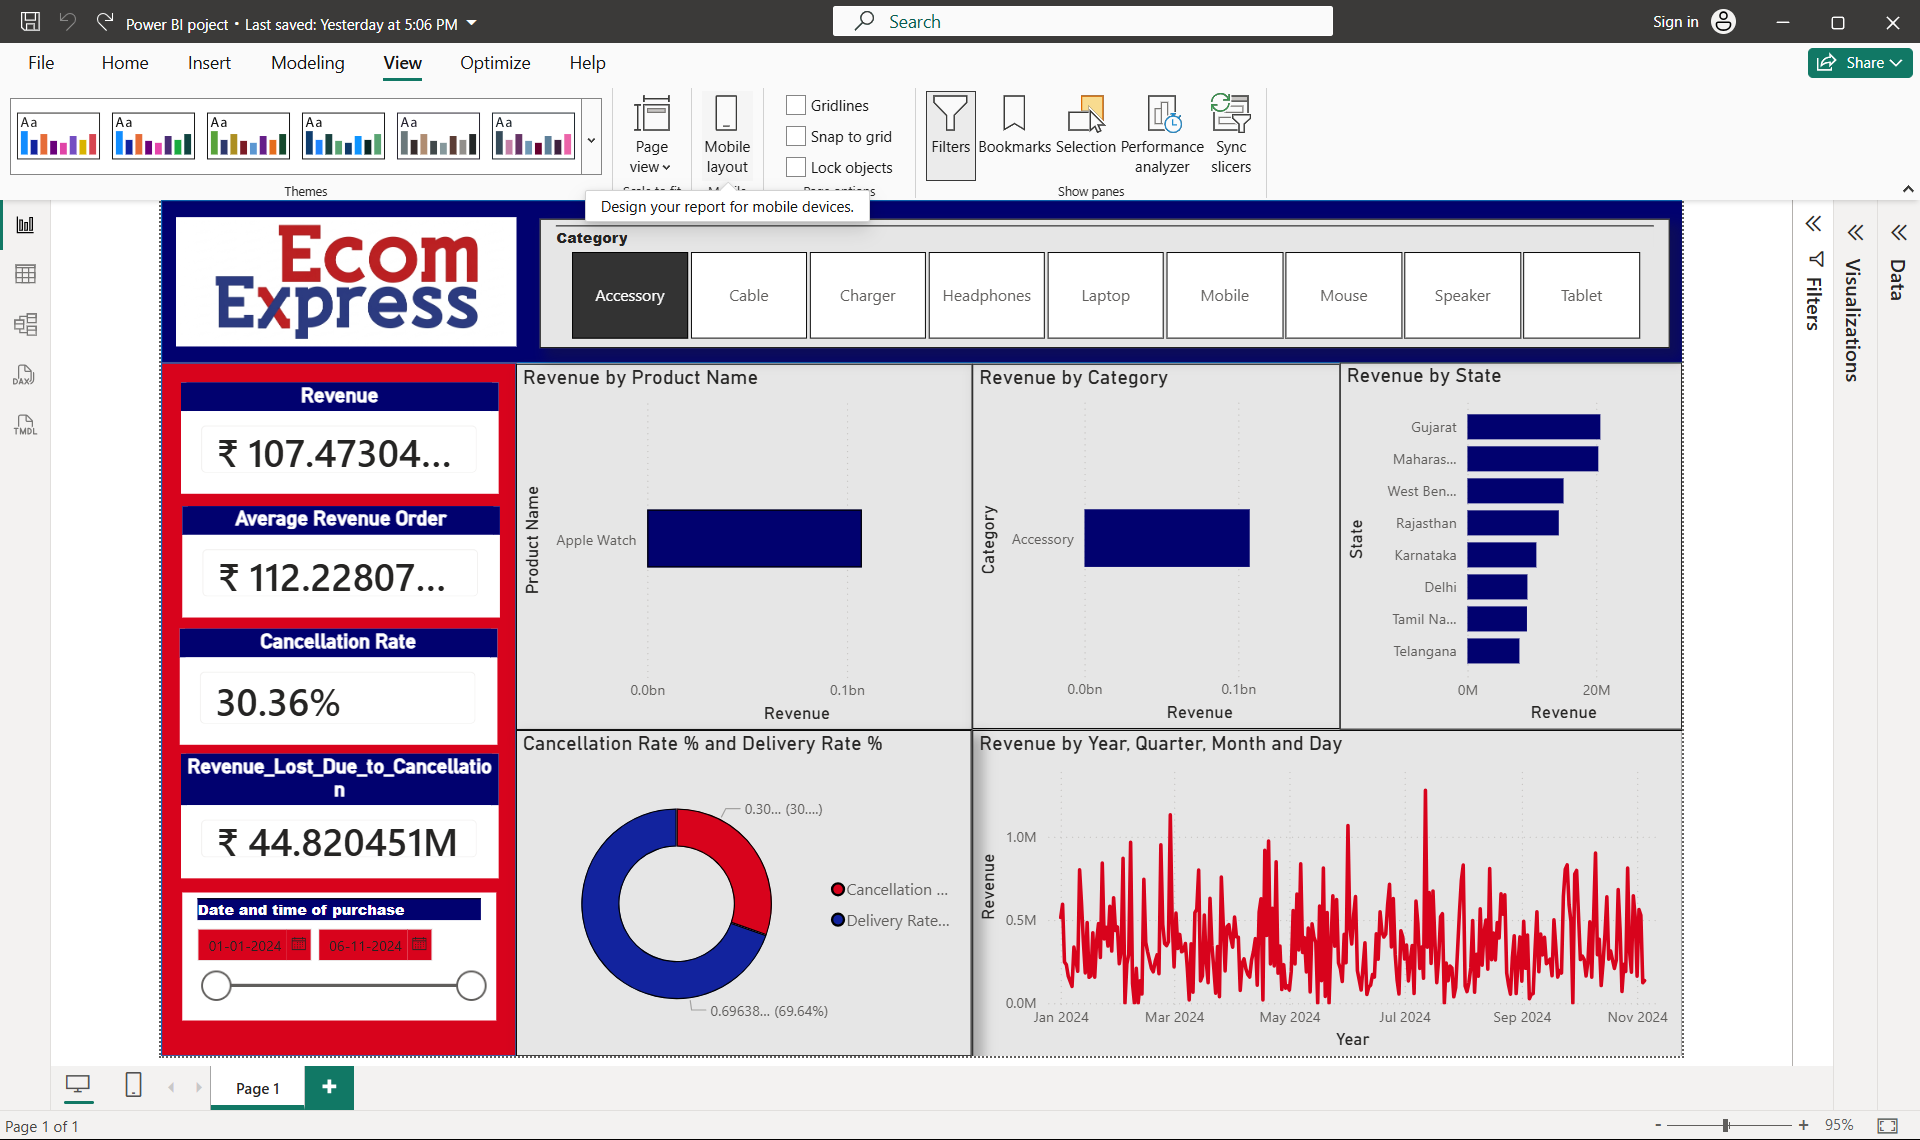

What the dashboard file says about the page in this screenshot:
{"tool":"powerbi","page":{"name":"Page 1","canvas":[1280,720],"ordinal":0},"visuals":[{"type":"shape","box":[0,0,1280.3,137.2],"z":0},{"type":"shape","box":[0,136.9,299,583.6],"z":1000},{"type":"image","box":[12.3,0,286.8,137.2],"z":2000},{"type":"barChart","fields":{"Y":["table.Revenue"],"Category":["Products.Product Name"]},"box":[298.6,137.7,383.8,308.1],"z":3000},{"type":"barChart","fields":{"Category":["Products.Category"],"Y":["table.Revenue"]},"box":[682,138.1,309.8,307.4],"z":4000},{"type":"lineChart","fields":{"Category":["Orders.Date and time of purchase.Variation.Date Hierarchy.Year","Orders.Date and time of purchase.Variation.Date Hierarchy.Quarter","Orders.Date and time of purchase.Variation.Date Hierarchy.Month","Orders.Date and time of purchase.Variation.Date Hierarchy.Day"],"Y":["table.Revenue"]},"box":[682,445.5,598,275],"z":5000},{"type":"barChart","fields":{"Category":["Customers.State"],"Y":["table.Revenue"]},"box":[991.8,136.9,288.2,308.6],"z":6000},{"type":"slicer","fields":{"Values":["Products.Category"]},"box":[318.6,15.4,950.2,109],"z":7000},{"type":"cardVisual","title":"Revenue","fields":{"Data":["table.Revenue"]},"box":[16.8,153.7,266.9,93.6],"z":8000},{"type":"cardVisual","title":"Average Revenue Order","fields":{"Data":["table.AverageRevenueOrder"]},"box":[18.2,257.1,266.9,93.6],"z":9000},{"type":"cardVisual","title":"Cancellation Rate","fields":{"Data":["table.Cancellation Rate"]},"box":[15.4,360.5,266.9,97.8],"z":10000},{"type":"cardVisual","title":"Revenue_Lost_Due_to_Cancellation","fields":{"Data":["table.Revenue_Lost"]},"box":[16.8,465.3,266.9,104.8],"z":11000},{"type":"slicer","fields":{"Values":["Orders.Date and time of purchase"]},"box":[18.2,582.7,264.1,107.6],"z":12000},{"type":"donutChart","fields":{"Y":["table.Cancellation Rate","table.Delivery Rate %"]},"box":[299,446,383,274],"z":13000}]}

Visuals, with their boxes on the page's 1280x720 design canvas (x1, y1, x2, y2). These are canvas units, not pixel positions in the 1920x1140 screenshot, which may show the page scaled, cropped or inside an application window:
shape: 0, 0, 1280, 137
shape: 0, 137, 299, 720
image: 12, 0, 299, 137
barChart - table.Revenue x Products.Product Name: 299, 138, 682, 446
barChart - Products.Category x table.Revenue: 682, 138, 992, 446
lineChart - Orders.Date and time of purchase.Variation.Date Hierarchy.Year x Orders.Date and time of purchase.Variation.Date Hierarchy.Quarter: 682, 446, 1280, 720
barChart - Customers.State x table.Revenue: 992, 137, 1280, 446
slicer - Products.Category: 319, 15, 1269, 124
"Revenue" cardVisual: 17, 154, 284, 247
"Average Revenue Order" cardVisual: 18, 257, 285, 351
"Cancellation Rate" cardVisual: 15, 360, 282, 458
"Revenue_Lost_Due_to_Cancellation" cardVisual: 17, 465, 284, 570
slicer - Orders.Date and time of purchase: 18, 583, 282, 690
donutChart - table.Cancellation Rate x table.Delivery Rate %: 299, 446, 682, 720
